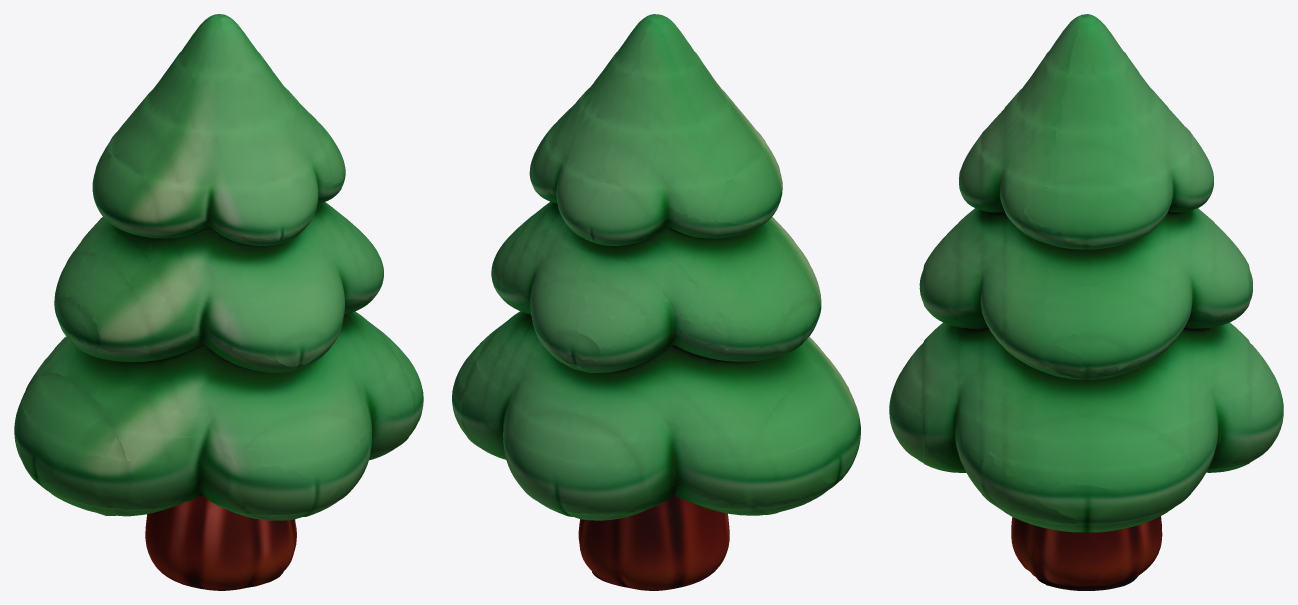
File: tree_2.glb
The picture shows the model from 3 angles, left to right: view 1: azimuth 30°, elevation 25°; view 2: azimuth 150°, elevation 25°; view 3: azimuth 270°, elevation 25°; orthographic projection.
Parts seen in each view (by area): view 1: tmpdvl6tmm4.ply; view 2: tmpdvl6tmm4.ply; view 3: tmpdvl6tmm4.ply.
Part boxes in pixels (x1,y1,x2,y2): tmpdvl6tmm4.ply: (14, 14, 423, 590); tmpdvl6tmm4.ply: (452, 14, 860, 590); tmpdvl6tmm4.ply: (889, 14, 1283, 590).
Bounding box in the file's own units: 2.66 × 3.8 × 2.48.
1 material, 1 textured.
